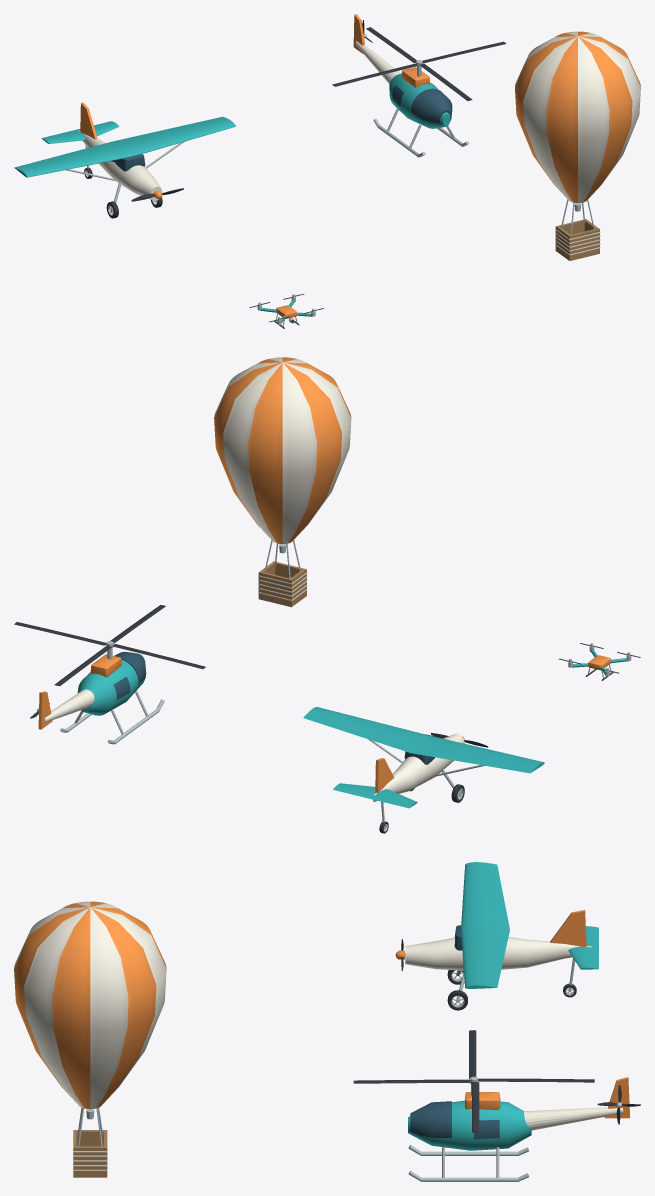
Rendered from air-land-sea-vehicles-air-showcase-147d9dc0__20036.glb.
The picture shows the model from 3 angles, top to bottom: view 1: azimuth 30°, elevation 25°; view 2: azimuth 150°, elevation 25°; view 3: azimuth 270°, elevation 25°; orthographic projection. The views are drawn at different scales.
Visible parts, largest first — view 1: 003-hot-air-balloon/1, 003-hot-air-balloon/0, 000-propeller-plane/2, 003-hot-air-balloon/2, 000-propeller-plane/0, 001-utility-helicopter/1, 001-utility-helicopter/main-rotor, 001-utility-helicopter/0, 001-utility-helicopter/3, 001-utility-helicopter/4, 001-utility-helicopter/2; view 2: 003-hot-air-balloon/1, 003-hot-air-balloon/0, 000-propeller-plane/2, 001-utility-helicopter/0, 003-hot-air-balloon/2, 000-propeller-plane/0, 001-utility-helicopter/main-rotor, 001-utility-helicopter/3, 001-utility-helicopter/4, 001-utility-helicopter/1, 001-utility-helicopter/2; view 3: 003-hot-air-balloon/1, 003-hot-air-balloon/0, 000-propeller-plane/2, 000-propeller-plane/0, 001-utility-helicopter/0, 001-utility-helicopter/1, 001-utility-helicopter/main-rotor, 003-hot-air-balloon/2, 001-utility-helicopter/4, 001-utility-helicopter/2, 001-utility-helicopter/3, 000-propeller-plane/4.
Boxes of the visible parts, x1,y1,x2,y2 form: 003-hot-air-balloon/1: (515, 31, 640, 255); 003-hot-air-balloon/0: (515, 31, 640, 202); 000-propeller-plane/2: (14, 116, 235, 177); 003-hot-air-balloon/2: (555, 219, 599, 260); 000-propeller-plane/0: (79, 130, 162, 200); 001-utility-helicopter/1: (392, 85, 452, 124); 001-utility-helicopter/main-rotor: (332, 27, 506, 100); 001-utility-helicopter/0: (389, 73, 450, 128); 001-utility-helicopter/3: (353, 14, 430, 87); 001-utility-helicopter/4: (373, 66, 469, 157); 001-utility-helicopter/2: (355, 41, 400, 84); 003-hot-air-balloon/1: (214, 357, 351, 600); 003-hot-air-balloon/0: (214, 357, 351, 543); 000-propeller-plane/2: (303, 707, 544, 808); 001-utility-helicopter/0: (77, 659, 145, 715); 003-hot-air-balloon/2: (258, 561, 306, 607); 000-propeller-plane/0: (373, 733, 464, 801); 001-utility-helicopter/main-rotor: (14, 605, 205, 686); 001-utility-helicopter/3: (38, 654, 121, 729); 001-utility-helicopter/4: (60, 648, 164, 744); 001-utility-helicopter/1: (113, 651, 146, 699); 001-utility-helicopter/2: (44, 689, 94, 722); 003-hot-air-balloon/1: (14, 901, 166, 1170); 003-hot-air-balloon/0: (14, 901, 166, 1109); 000-propeller-plane/2: (461, 862, 598, 988); 000-propeller-plane/0: (405, 937, 591, 970); 001-utility-helicopter/0: (408, 1100, 531, 1150); 001-utility-helicopter/1: (410, 1101, 499, 1139); 001-utility-helicopter/main-rotor: (353, 1030, 594, 1132); 003-hot-air-balloon/2: (73, 1130, 107, 1177); 001-utility-helicopter/4: (408, 1084, 529, 1181); 001-utility-helicopter/2: (524, 1107, 623, 1130); 001-utility-helicopter/3: (464, 1077, 629, 1118); 000-propeller-plane/4: (550, 910, 586, 946).
Bounding box in the file's own units: 19.85 × 8.51 × 18.48.
